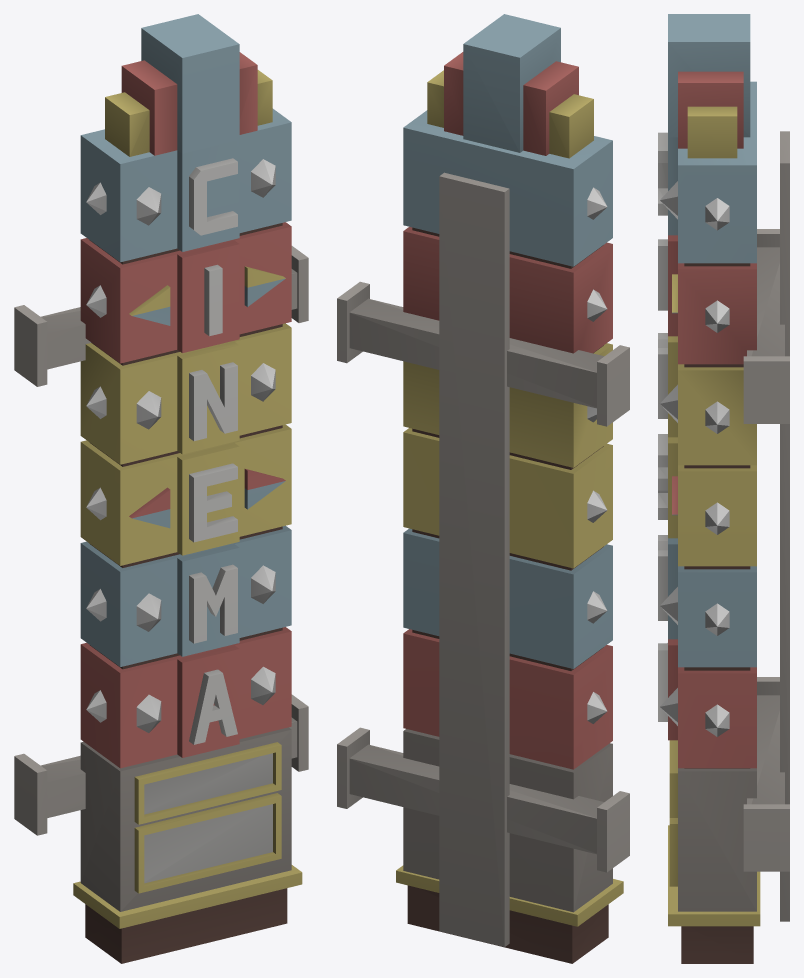
The model's file is theatersign.glb.
3 views of the same model, side by side, from view 1: azimuth 30°, elevation 25°; view 2: azimuth 150°, elevation 25°; view 3: azimuth 270°, elevation 25° (orthographic).
Visible parts, largest first — view 1: theatersign; view 2: theatersign; view 3: theatersign.
Boxes of the visible parts, box(x1,y1,x2,y2) form: theatersign: box(14, 14, 308, 963); theatersign: box(337, 14, 629, 963); theatersign: box(658, 14, 789, 963).
Size of the model in its own units: 1.9 by 6 by 0.8.
